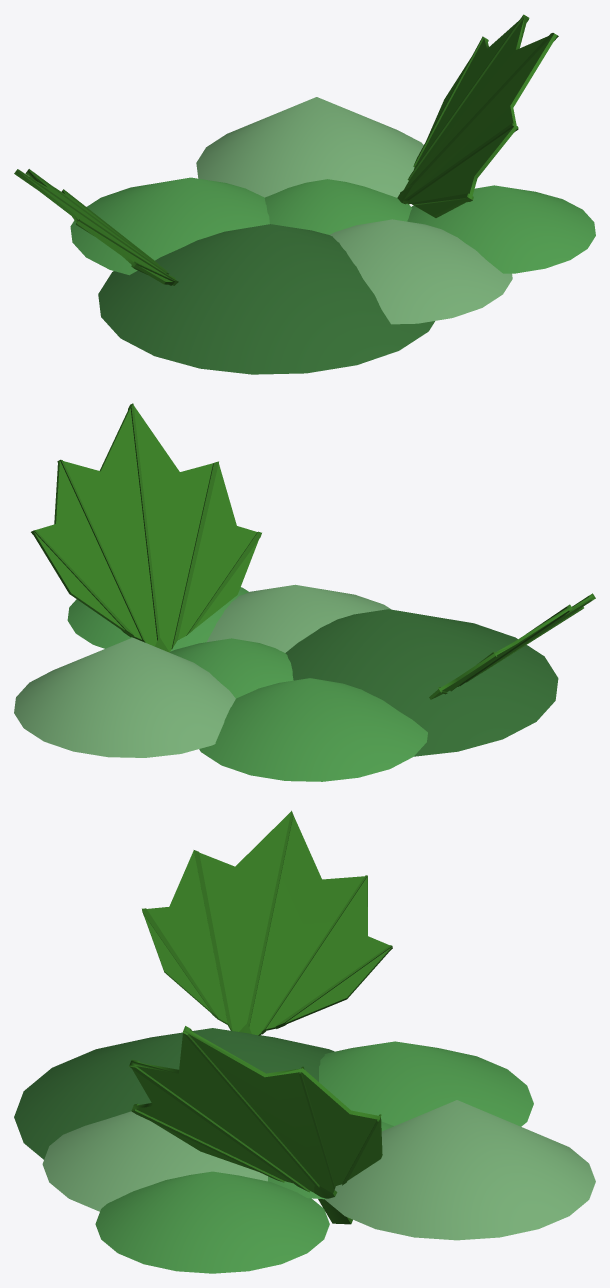
File: Pond Scum.fbx
3 views of the same model, one above another, from view 1: azimuth 30°, elevation 25°; view 2: azimuth 150°, elevation 25°; view 3: azimuth 270°, elevation 25° (orthographic). The views are drawn at different scales.
Parts seen in each view (by area): view 1: pCone7; view 2: pCone7; view 3: pCone7.
Part boxes in pixels (<box>): pCone7: <box>14,14,595,374</box>; pCone7: <box>14,403,595,781</box>; pCone7: <box>14,810,595,1273</box>.
Bounding box in the file's own units: 8.06 × 3.19 × 6.63.
